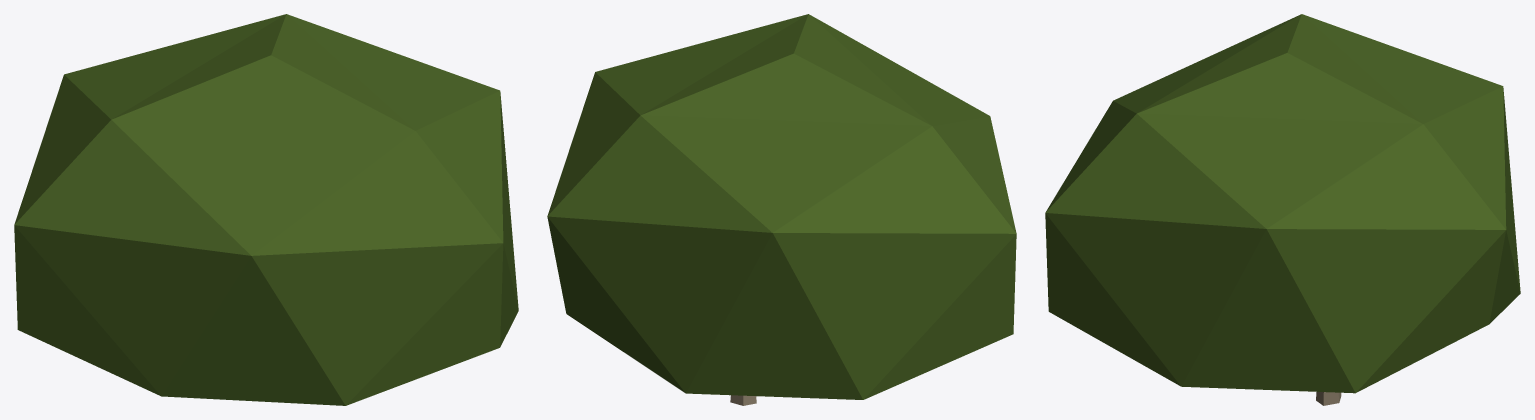
Rendered from SM_Bush_03.fbx.
3 renders of one model, left to right at view 1: azimuth 30°, elevation 25°; view 2: azimuth 150°, elevation 25°; view 3: azimuth 270°, elevation 25°, orthographic. The views are drawn at different scales.
Parts seen in each view (by area): view 1: SM_Bush_03; view 2: SM_Bush_03; view 3: SM_Bush_03.
Boxes of the visible parts, left/top/right/bottom form: SM_Bush_03: left=14, top=14, right=518, bottom=405; SM_Bush_03: left=547, top=14, right=1016, bottom=405; SM_Bush_03: left=1045, top=14, right=1520, bottom=405.
Size of the model in its own units: 153 by 144 by 112.
Materials: 2 (2 with a texture image).
